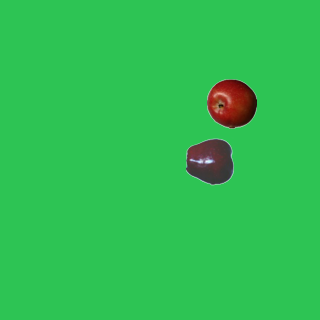Apple Braeburn: (206, 78, 256, 128)
Apple Red Delicious: (185, 136, 235, 186)
